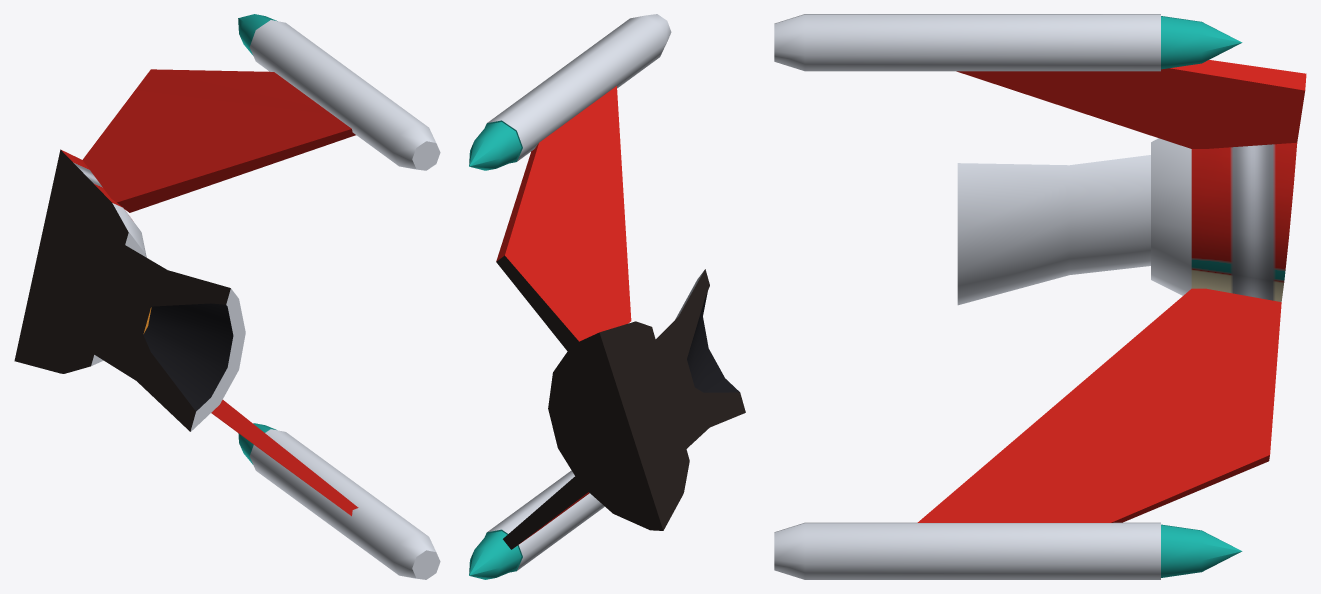
Rendered from thunderbolt_debris4.obj.
The picture shows the model from 3 angles, left to right: view 1: azimuth 30°, elevation 25°; view 2: azimuth 150°, elevation 25°; view 3: azimuth 270°, elevation 25°; orthographic projection. The views are drawn at different scales.
Parts seen in each view (by area): view 1: fin45, finpod, bell, hull, fin135; view 2: fin45, hull, finpod, bell, fin135; view 3: finpod, fin135, bell, hull, fin45.
Boxes of the visible parts, x1,y1,x2,y2 form: fin45: (82,69,355,212); finpod: (238,14,440,579); bell: (93,245,245,431); hull: (14,149,146,373); fin135: (211,400,358,516); fin45: (496,86,631,361); hull: (548,321,689,530); finpod: (469,14,671,579); bell: (655,269,745,448); fin135: (503,474,594,549); finpod: (774,14,1242,579); fin135: (917,288,1281,522); bell: (957,155,1150,305); hull: (1151,138,1297,301); fin45: (956,60,1306,148).
Size of the model in its own units: 3.25 by 6.12 by 5.23.
Materials: 7 (1 with a texture image).
